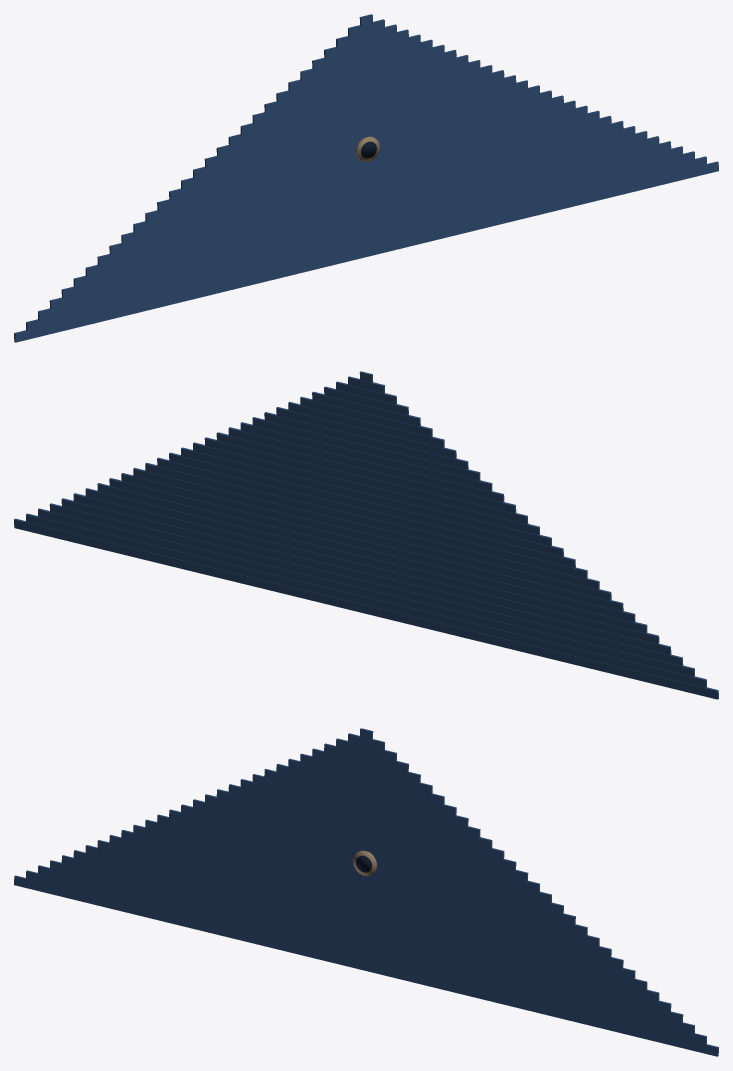
File: kit_clapboard_gable_w10.glb
3 renders of one model, top to bottom at view 1: azimuth 30°, elevation 25°; view 2: azimuth 150°, elevation 25°; view 3: azimuth 330°, elevation 25°, orthographic.
Visible parts, largest first — view 1: kit_clapboard_gable_w10; view 2: kit_clapboard_gable_w10; view 3: kit_clapboard_gable_w10.
Part boxes in pixels (bbox=[...]): kit_clapboard_gable_w10: bbox=[14, 14, 718, 342]; kit_clapboard_gable_w10: bbox=[14, 371, 718, 699]; kit_clapboard_gable_w10: bbox=[14, 728, 718, 1056].
Bounding box in the file's own units: 9.83 × 3.21 × 0.082.
